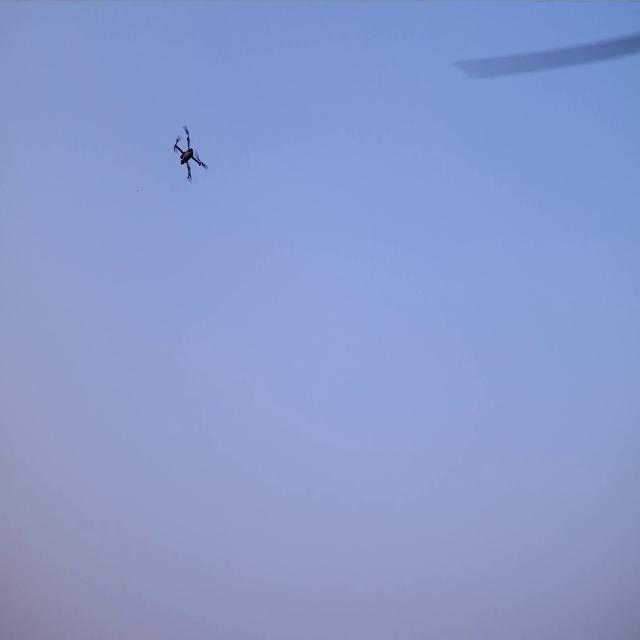UAV: (174, 130, 204, 178)
